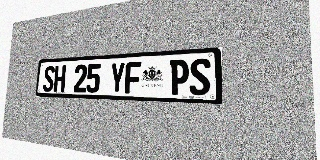2: (73, 64, 87, 93)
5: (86, 63, 101, 93)
F: (124, 62, 141, 94)
H: (53, 65, 66, 92)
P: (169, 59, 189, 95)
S: (189, 58, 210, 96), (43, 66, 55, 92)
Y: (109, 62, 125, 93)
